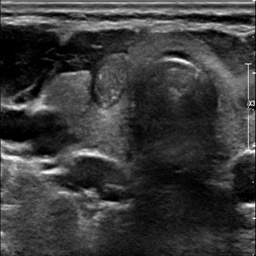mass: (92, 55, 126, 104)
